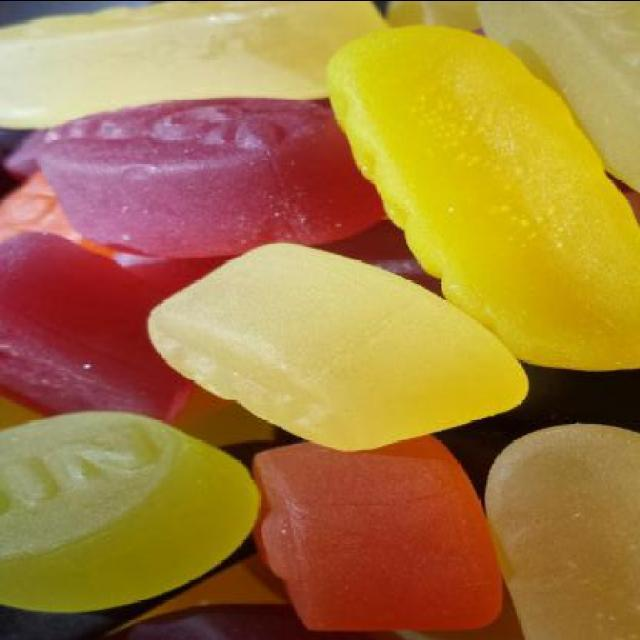Candy: (318, 22, 640, 372), (141, 238, 533, 452), (32, 98, 383, 260), (0, 412, 260, 614), (248, 433, 506, 630), (0, 440, 249, 640), (0, 1, 380, 130), (0, 229, 202, 431), (483, 422, 639, 640), (476, 0, 640, 189), (0, 167, 126, 261), (111, 602, 383, 640)
